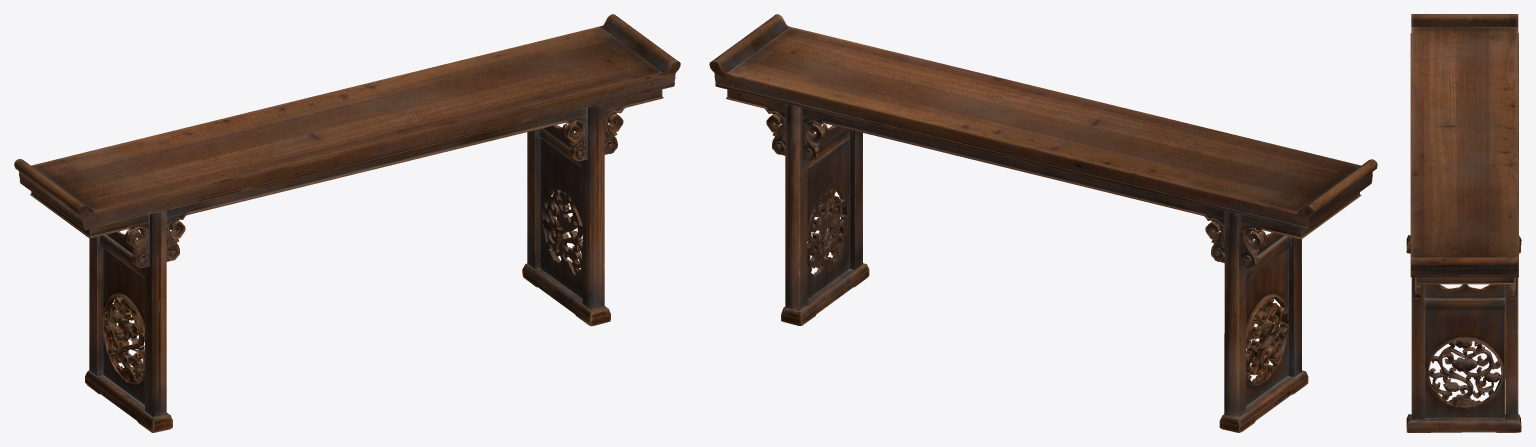
File: chinese_console_table.gltf
3 renders of one model, left to right at view 1: azimuth 30°, elevation 25°; view 2: azimuth 150°, elevation 25°; view 3: azimuth 270°, elevation 25°, orthographic. The views are drawn at different scales.
Visible parts, largest first — view 1: chinese_console_table; view 2: chinese_console_table; view 3: chinese_console_table.
Boxes of the visible parts, x1,y1,x2,y2 form: chinese_console_table: (14, 14, 680, 432); chinese_console_table: (709, 14, 1377, 432); chinese_console_table: (1406, 14, 1521, 432).
Size of the model in its own units: 1.72 by 0.6615 by 0.3389.
1 material, 1 textured.
